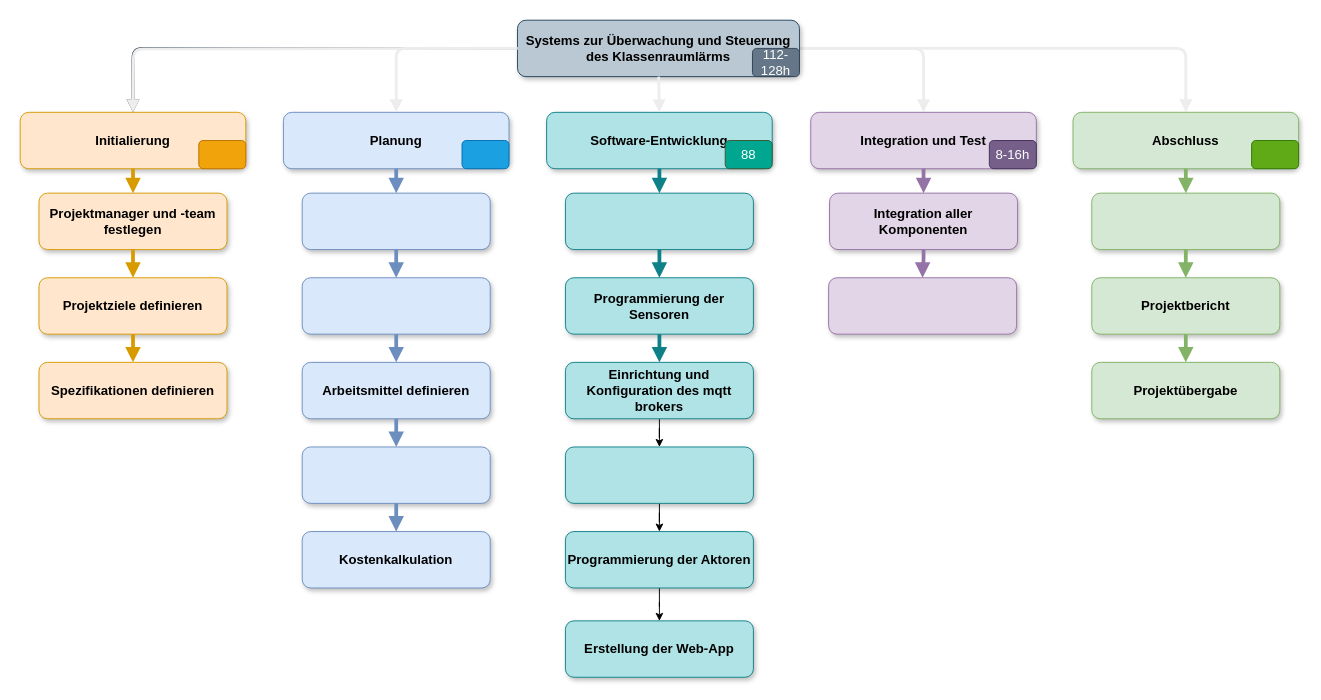
The diagram is 1321 pixels wide and 700 high, and some of its shapes have lost their labels. The centre of each missing label's shape, as x and y in pixels:
"16-24h" belongs at (x=1275, y=154).
"32h" belongs at (x=485, y=154).
"8h" belongs at (x=222, y=154).
"Benutzerhandbuch" belongs at (x=1186, y=222).
"Entwicklung der selbstprogrammierten Anwendung" belongs at (x=660, y=476).
"Kommunikationkanäle einrichten" belongs at (x=397, y=476).
"Programmierung der Microcontroller" belongs at (x=660, y=222).
"Test des Systems" belongs at (x=923, y=307).
"Vorläufiges Budget definieren" belongs at (x=397, y=307).
"Zeitplan und Aufgabenplan erstelllen" belongs at (x=397, y=222).
